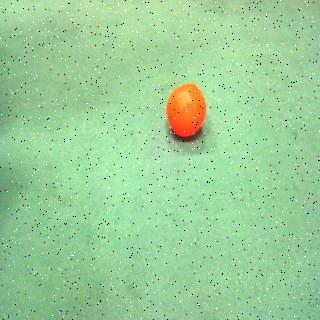orange: (164, 81, 210, 145)
